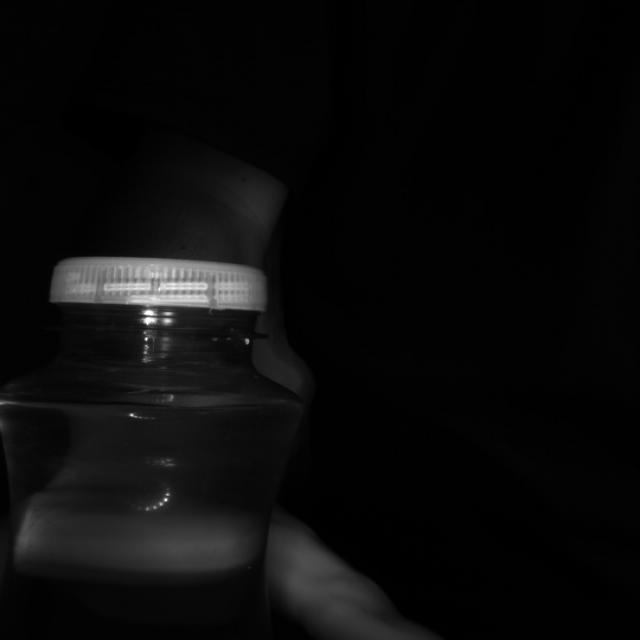Not Good: (45, 251, 264, 346)
